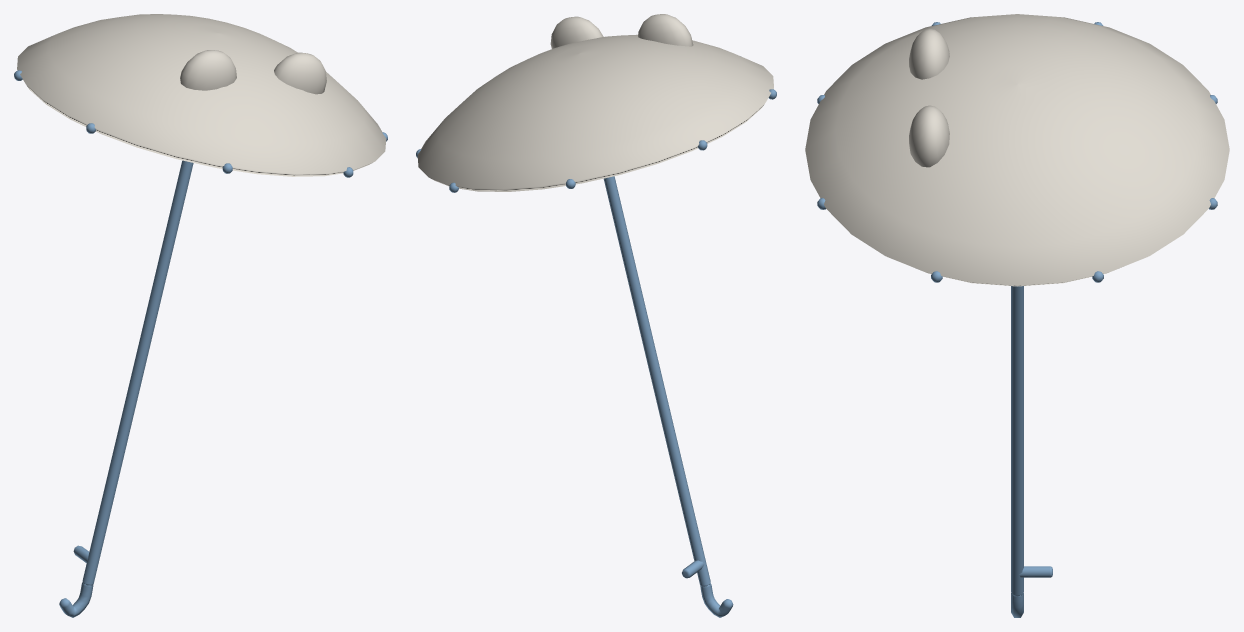
The model's file is ghost_umbrella.glb.
3 renders of one model, left to right at view 1: azimuth 30°, elevation 25°; view 2: azimuth 150°, elevation 25°; view 3: azimuth 270°, elevation 25°, orthographic. The views are drawn at different scales.
Visible parts, largest first — view 1: ghost_umbrella_ArmR; view 2: ghost_umbrella_ArmR; view 3: ghost_umbrella_ArmR.
Boxes of the visible parts, x1=… form: ghost_umbrella_ArmR: x1=14, y1=14, x2=387, y2=617; ghost_umbrella_ArmR: x1=416, y1=14, x2=776, y2=617; ghost_umbrella_ArmR: x1=805, y1=14, x2=1229, y2=617.
Bounding box in the file's own units: 0.8703 × 1.49 × 0.9.
